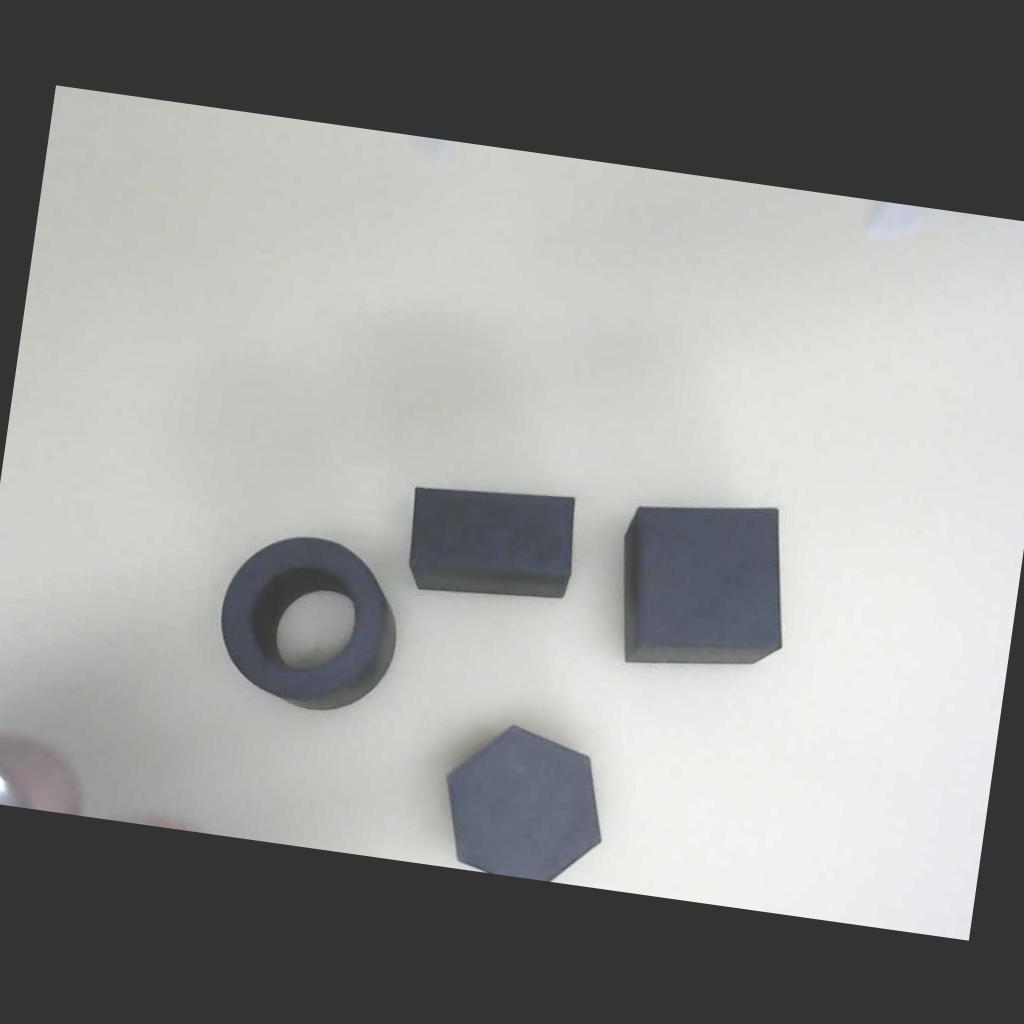rectangle: (398, 477, 591, 610)
ring: (190, 515, 422, 732)
square: (605, 487, 799, 684)
